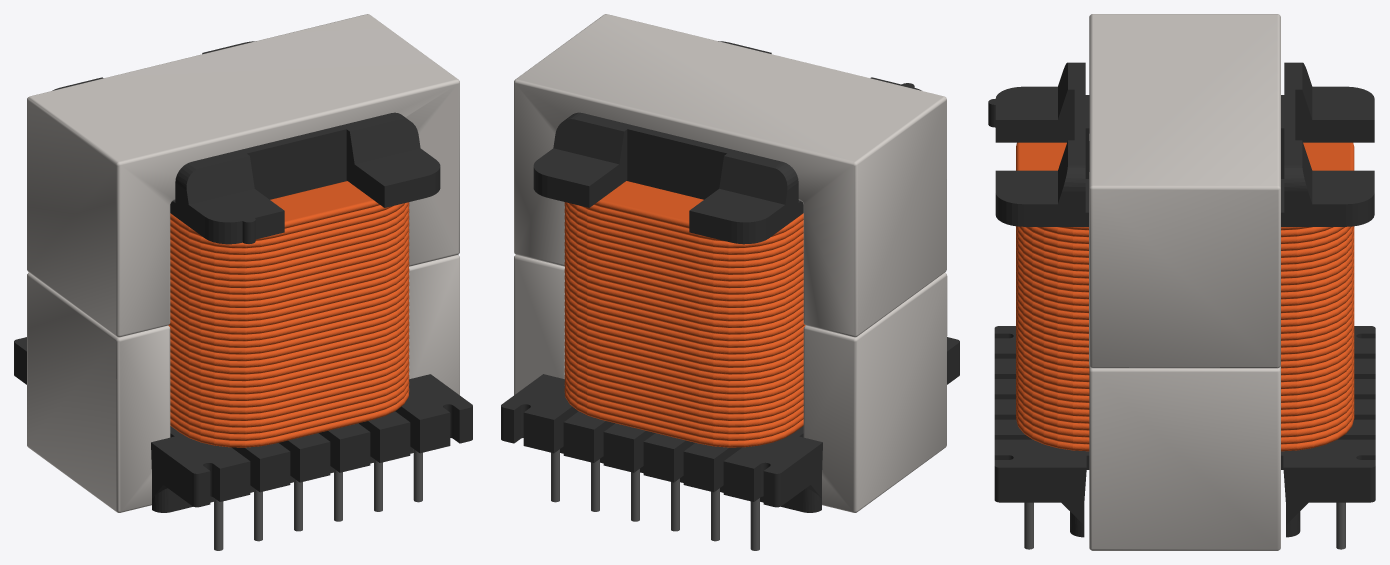
File: e42-transformer.glb
3 renders of one model, left to right at view 1: azimuth 30°, elevation 25°; view 2: azimuth 150°, elevation 25°; view 3: azimuth 270°, elevation 25°, orthographic. The views are drawn at different scales.
Parts seen in each view (by area): view 1: Object_30, Object_17, Object_43, Object_472, Object_342, Object_160, Object_264, Object_303, Object_121, Object_82, Object_199, Object_381 (+24 smaller); view 2: Object_30, Object_17, Object_43, Object_472, Object_121, Object_303, Object_160, Object_342, Object_82, Object_381, Object_199, Object_251 (+24 smaller); view 3: Object_30, Object_17, Object_43, Object_472, Object_108, Object_121, Object_95, Object_134, Object_251, Object_147, Object_82, Object_381 (+24 smaller).
Boxes of the visible parts, left/top/right/bottom form: Object_30: left=27, top=14, right=459, bottom=337; Object_17: left=14, top=41, right=472, bottom=550; Object_43: left=27, top=255, right=459, bottom=512; Object_472: left=270, top=181, right=379, bottom=228; Object_342: left=170, top=242, right=409, bottom=301; Object_160: left=170, top=335, right=409, bottom=394; Object_264: left=170, top=282, right=409, bottom=341; Object_303: left=170, top=262, right=409, bottom=321; Object_121: left=170, top=355, right=409, bottom=414; Object_82: left=170, top=375, right=409, bottom=434; Object_199: left=170, top=315, right=409, bottom=374; Object_381: left=170, top=222, right=409, bottom=281; Object_30: left=514, top=14, right=946, bottom=337; Object_17: left=501, top=41, right=959, bottom=550; Object_43: left=514, top=255, right=947, bottom=512; Object_472: left=594, top=181, right=703, bottom=228; Object_121: left=564, top=355, right=803, bottom=414; Object_303: left=564, top=262, right=803, bottom=321; Object_160: left=564, top=335, right=803, bottom=394; Object_342: left=564, top=242, right=803, bottom=301; Object_82: left=564, top=375, right=803, bottom=434; Object_381: left=564, top=222, right=803, bottom=281; Object_199: left=564, top=315, right=803, bottom=374; Object_251: left=564, top=288, right=804, bottom=347; Object_30: left=1089, top=14, right=1280, bottom=368; Object_17: left=988, top=62, right=1375, bottom=549; Object_43: left=1089, top=366, right=1280, bottom=550; Object_472: left=1016, top=142, right=1354, bottom=230; Object_108: left=1016, top=384, right=1354, bottom=423; Object_121: left=1016, top=377, right=1354, bottom=416; Object_95: left=1016, top=391, right=1354, bottom=430; Object_134: left=1016, top=371, right=1354, bottom=409; Object_251: left=1016, top=308, right=1354, bottom=347; Object_147: left=1016, top=364, right=1354, bottom=402; Object_82: left=1016, top=398, right=1354, bottom=437; Object_381: left=1016, top=239, right=1354, bottom=278.
Bounding box in the file's own units: 42.99 × 45.65 × 40.35.
